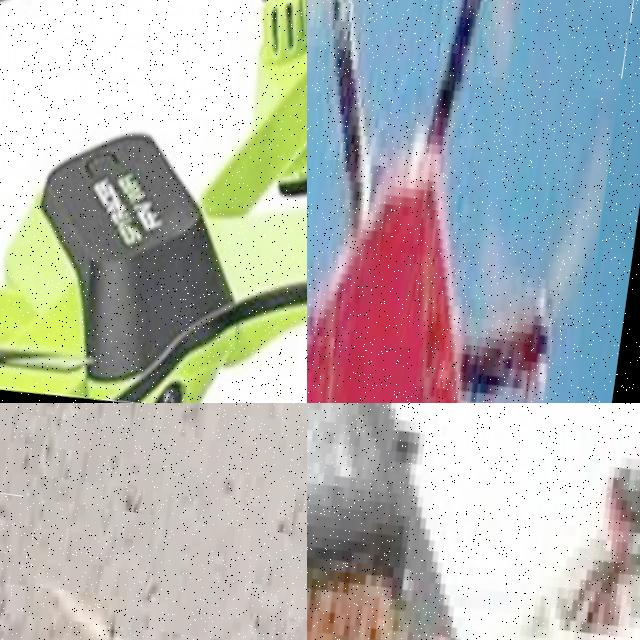0: (0, 480, 307, 640)
drone: (307, 0, 640, 403), (0, 0, 307, 403), (307, 403, 640, 640)
